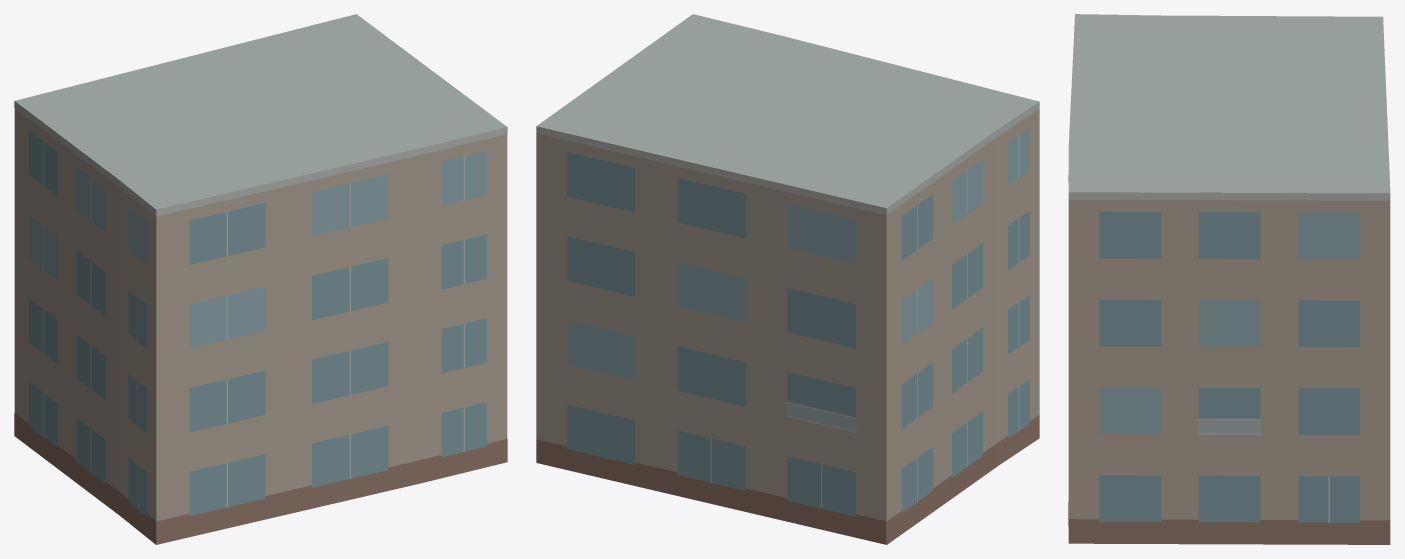
File: survey-upis-32954446.glb
3 views of the same model, side by side, from view 1: azimuth 30°, elevation 25°; view 2: azimuth 150°, elevation 25°; view 3: azimuth 270°, elevation 25° (orthographic). The views are drawn at different scales.
Parts seen in each view (by area): view 1: survey-upis-32954446.tmp; view 2: survey-upis-32954446.tmp; view 3: survey-upis-32954446.tmp.
Boxes of the visible parts, x1,y1,x2,y2 form: survey-upis-32954446.tmp: [14, 14, 507, 544]; survey-upis-32954446.tmp: [536, 14, 1039, 544]; survey-upis-32954446.tmp: [1068, 14, 1390, 544].
Bounding box in the file's own units: 12.82 × 11.7 × 9.72.
